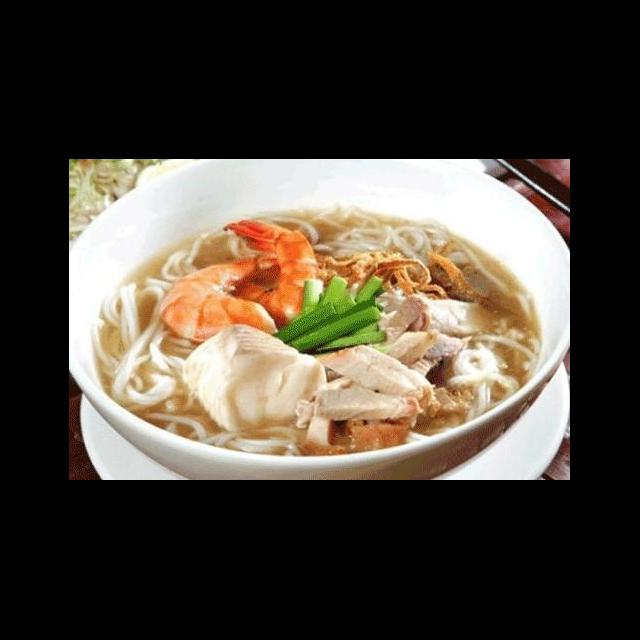bun: (86, 227, 215, 450), (306, 197, 508, 274), (444, 332, 548, 432)
ca: (178, 318, 330, 436)
thit heo quay: (314, 342, 439, 406), (390, 288, 506, 342), (373, 324, 472, 382), (306, 384, 424, 432)
tom: (157, 248, 296, 348), (218, 212, 324, 332)
